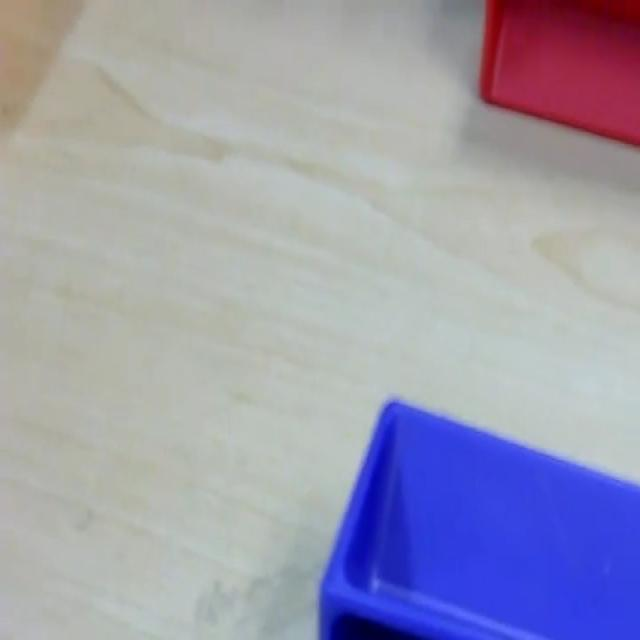blue_block: (316, 393, 638, 638)
red_block: (478, 0, 638, 147)
